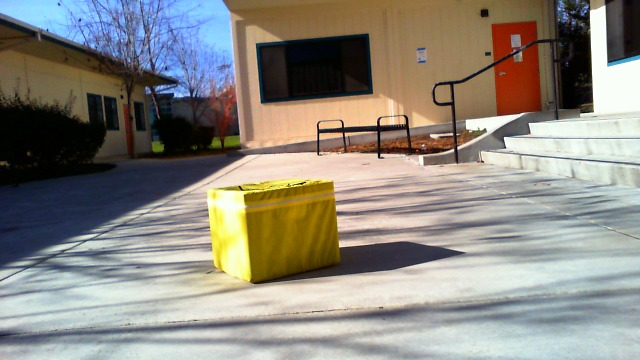cube: (197, 180, 355, 283)
